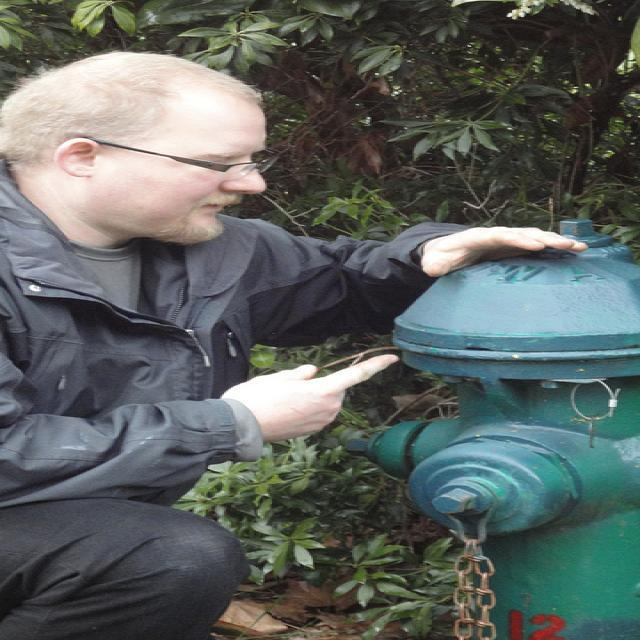fire_hydrant: (343, 221, 638, 640)
